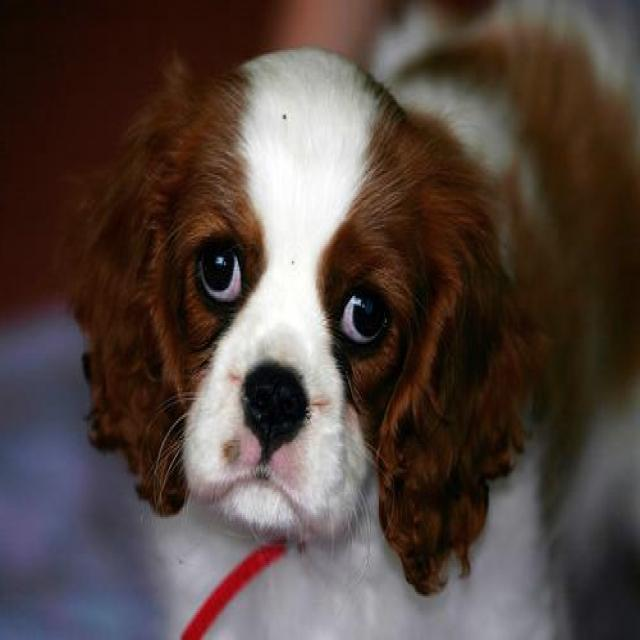blenheim_spaniel: (54, 0, 640, 638)
